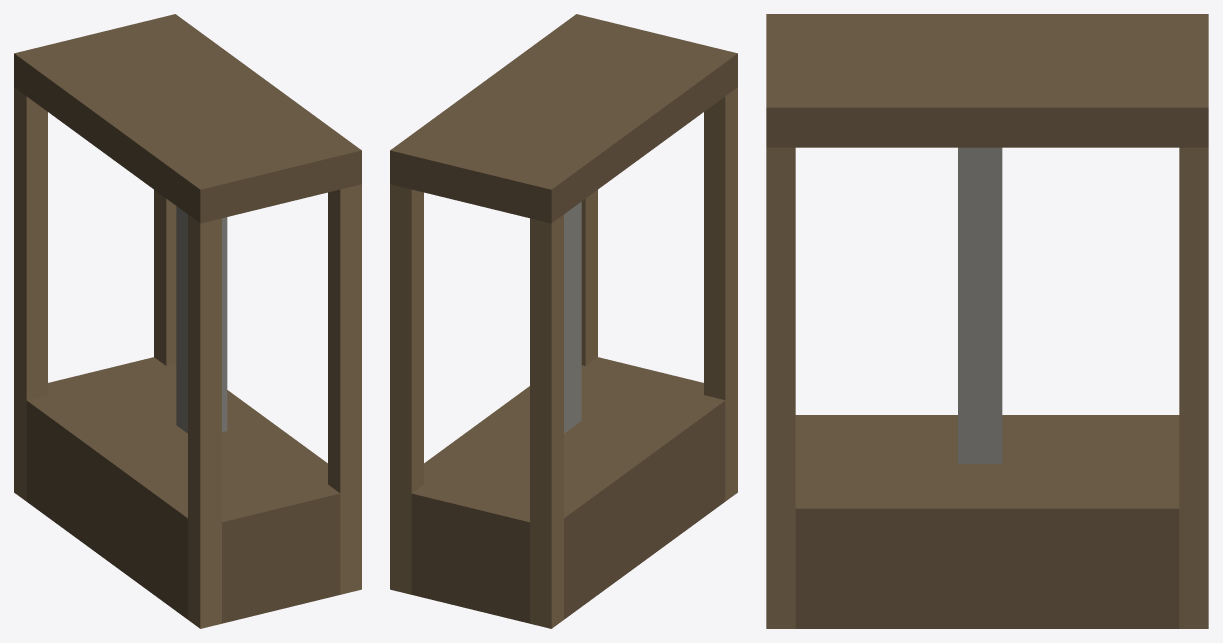
Rendered from prensa_vino_roble_01.glb.
3 renders of one model, left to right at view 1: azimuth 30°, elevation 25°; view 2: azimuth 150°, elevation 25°; view 3: azimuth 270°, elevation 25°, orthographic. The views are drawn at different scales.
Visible parts, largest first — view 1: prensa_vino_roble; view 2: prensa_vino_roble; view 3: prensa_vino_roble.
Boxes of the visible parts, x1,y1,x2,y2 form: prensa_vino_roble: (14, 14, 361, 628); prensa_vino_roble: (390, 14, 737, 628); prensa_vino_roble: (766, 14, 1208, 628).
Bounding box in the file's own units: 1 × 2.6 × 2.
